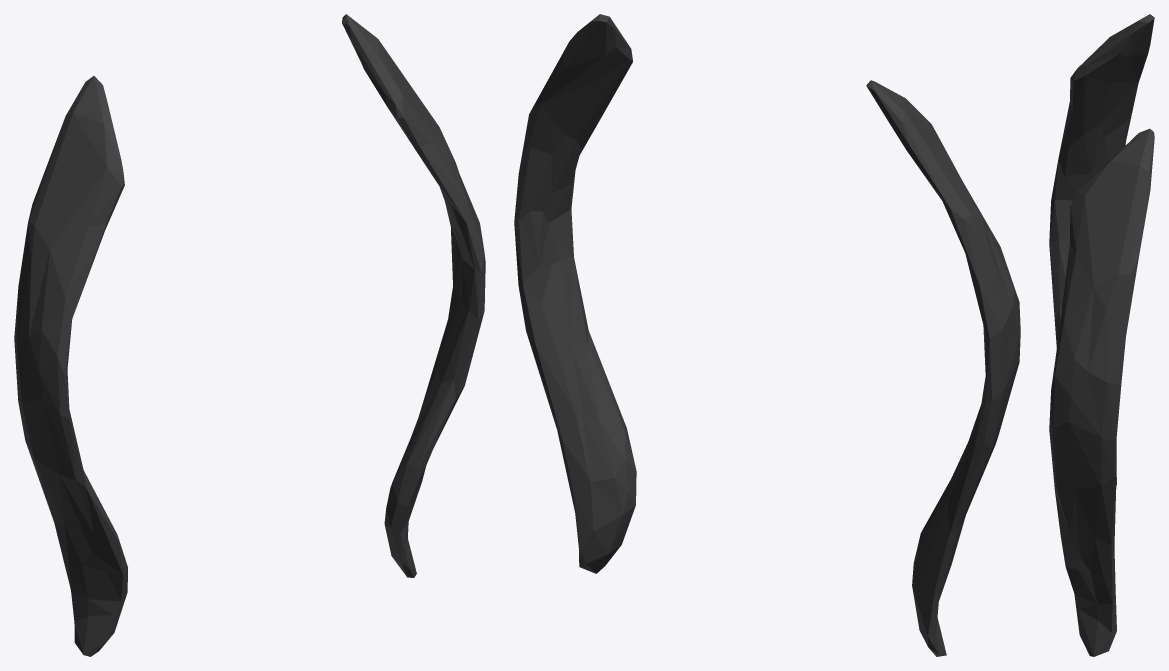
The model's file is m_tensor_fasciae_antebrachii.glb.
The picture shows the model from 3 angles, left to right: view 1: azimuth 30°, elevation 25°; view 2: azimuth 150°, elevation 25°; view 3: azimuth 270°, elevation 25°; orthographic projection. The views are drawn at different scales.
Parts seen in each view (by area): view 1: m_tensor_fasciae_antebrachii; view 2: m_tensor_fasciae_antebrachii; view 3: m_tensor_fasciae_antebrachii.
Boxes of the visible parts, left/top/right/bottom form: m_tensor_fasciae_antebrachii: left=14, top=14, right=485, bottom=656; m_tensor_fasciae_antebrachii: left=514, top=14, right=1020, bottom=656; m_tensor_fasciae_antebrachii: left=1049, top=14, right=1154, bottom=656.
Size of the model in its own units: 0.00726 by 0.00845 by 0.00158.
1 material, 1 textured.
